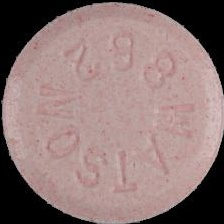21695-735: (0, 0, 224, 224)
